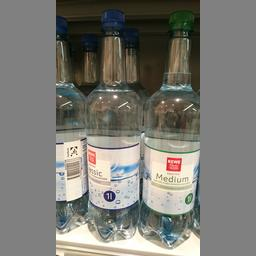water: (84, 7, 142, 240), (142, 9, 199, 246), (56, 14, 86, 236)
